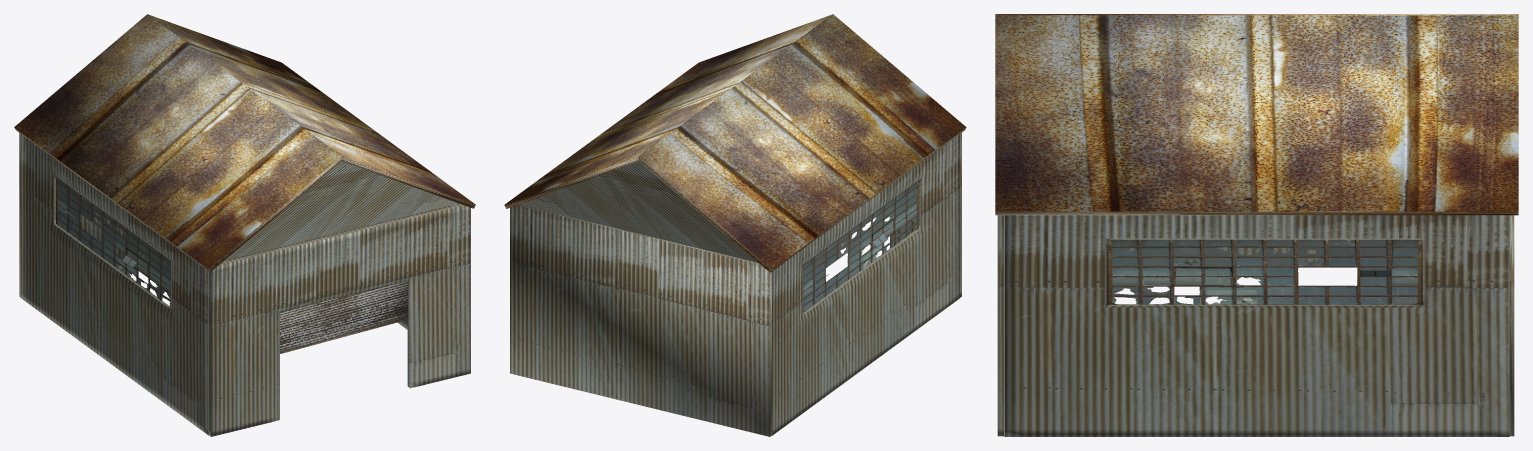
The model's file is old_warehouse01_upgrade.obj.
3 renders of one model, left to right at view 1: azimuth 30°, elevation 25°; view 2: azimuth 150°, elevation 25°; view 3: azimuth 270°, elevation 25°, orthographic. The views are drawn at different scales.
Visible parts, largest first — view 1: Krychle.2.2, Krychle.1.2, st?na1.2, Krychle.3.2, Polygon, vrata, okno.2, Krychle.2.3; view 2: Krychle.2.3, Krychle.2.2, st?na1.2, Krychle.3.2, Polygon.1, okno.2, Krychle.1.2; view 3: Krychle.3.2, st?na1, okno, Krychle.1.2, Krychle.2.3, Krychle.2.2, st?na1.2.
Part boxes in pixels (<box>): Krychle.2.2: <box>14,14,343,272</box>; Krychle.1.2: <box>208,204,470,436</box>; st?na1.2: <box>20,134,208,435</box>; Krychle.3.2: <box>149,15,475,208</box>; Polygon: <box>223,161,459,261</box>; vrata: <box>280,281,407,353</box>; okno.2: <box>56,176,170,307</box>; Krychle.2.3: <box>19,133,165,297</box>; Krychle.2.3: <box>510,204,771,436</box>; Krychle.2.2: <box>637,14,966,272</box>; st?na1.2: <box>772,134,959,435</box>; Krychle.3.2: <box>504,14,831,208</box>; Polygon.1: <box>519,161,757,262</box>; okno.2: <box>803,181,918,312</box>; Krychle.1.2: <box>890,133,961,297</box>; Krychle.3.2: <box>995,15,1518,215</box>; st?na1: <box>1004,215,1509,436</box>; okno: <box>1107,238,1422,305</box>; Krychle.1.2: <box>997,215,1003,436</box>; Krychle.2.3: <box>1509,215,1514,436</box>; Krychle.2.2: <box>995,14,1518,15</box>; st?na1.2: <box>1127,239,1356,267</box>.
Size of the model in its own units: 663 by 588 by 829.
